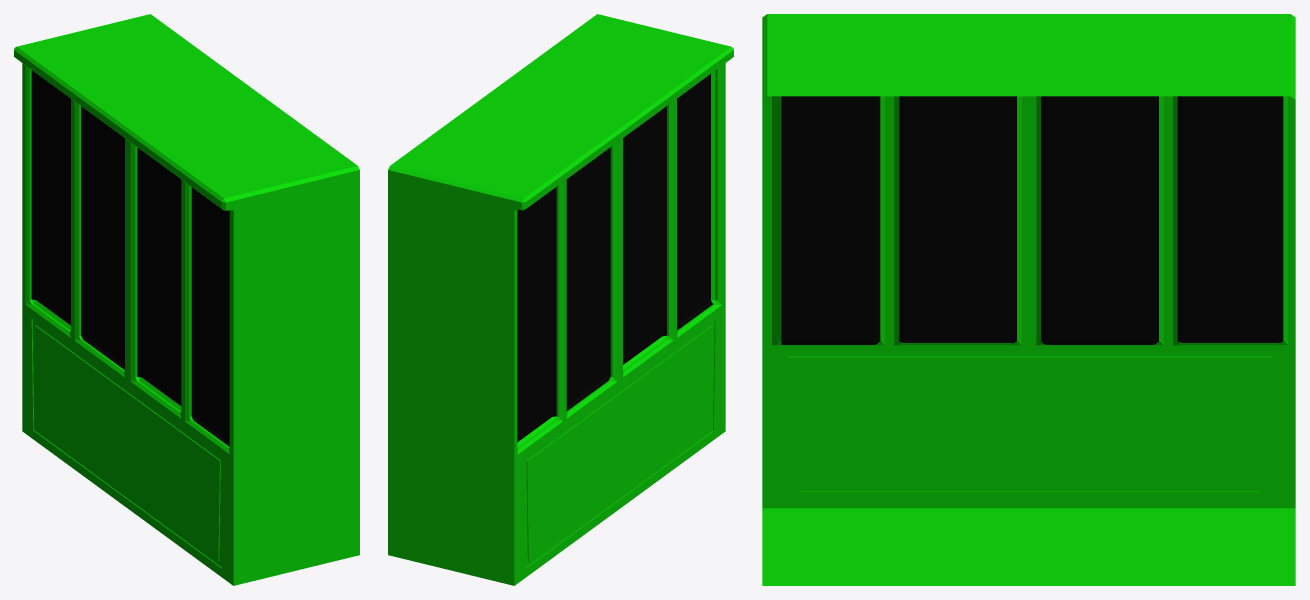
Rendered from balcon 3HI.fbx.
The picture shows the model from 3 angles, left to right: view 1: azimuth 30°, elevation 25°; view 2: azimuth 150°, elevation 25°; view 3: azimuth 270°, elevation 25°; orthographic projection. The views are drawn at different scales.
Parts seen in each view (by area): view 1: Плоскость.001; view 2: Плоскость.001; view 3: Плоскость.001.
Part boxes in pixels (x1,y1,x2,y2): Плоскость.001: [14, 14, 359, 585]; Плоскость.001: [388, 14, 733, 585]; Плоскость.001: [762, 14, 1295, 585].
Size of the model in its own units: 159 by 433 by 427.
